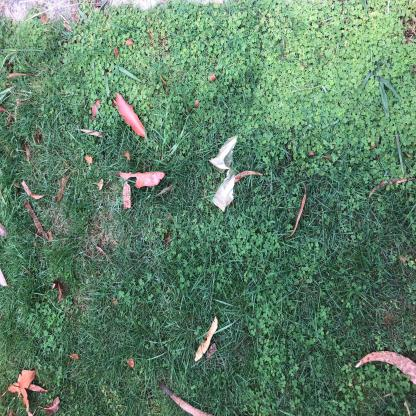trash: (150, 276, 218, 321)
